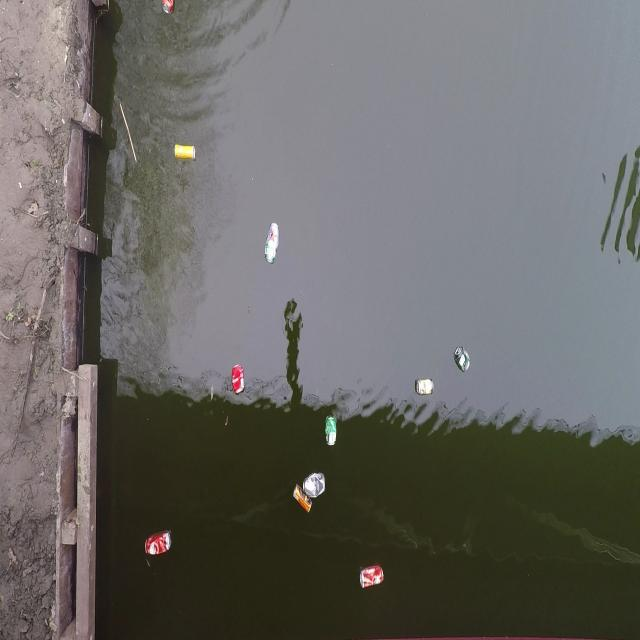Non plastique: (140, 525, 178, 568), (260, 213, 282, 271), (358, 565, 391, 596), (290, 483, 315, 522), (170, 135, 200, 165), (302, 467, 330, 498), (228, 361, 248, 402), (321, 409, 340, 450), (453, 344, 474, 379), (413, 369, 436, 398)
